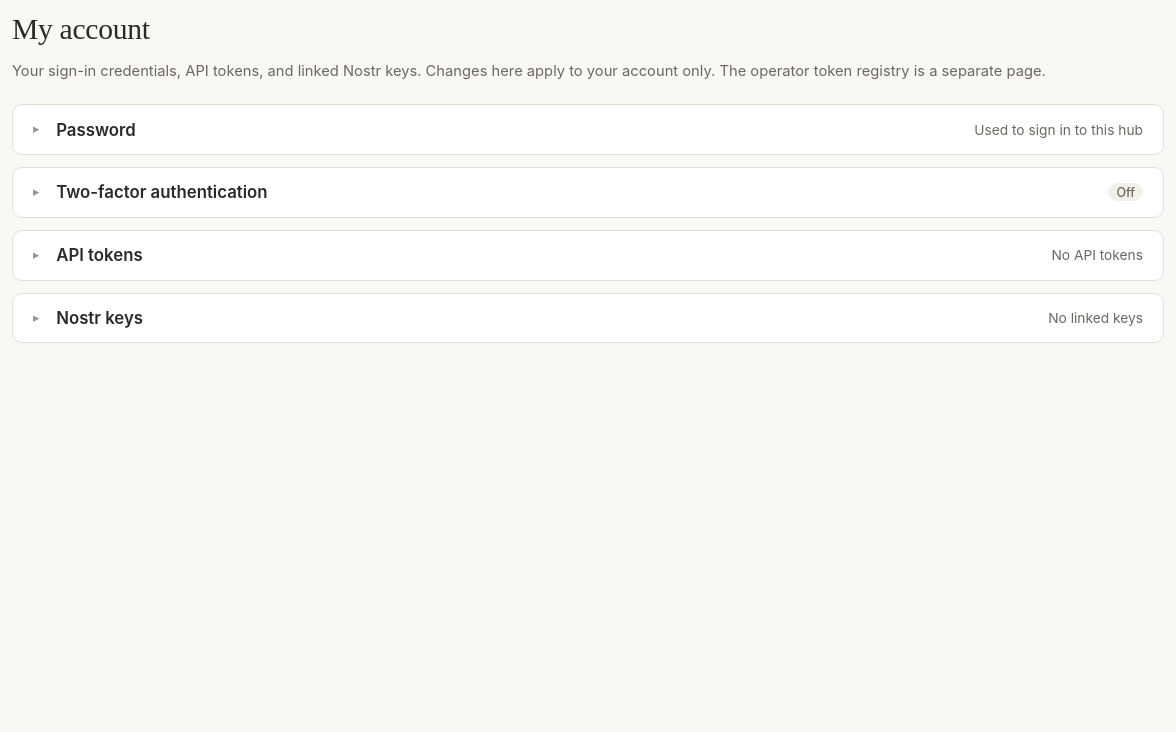
Account — password change › blocks a too-short new password client-side (no POST)
Click the button with test id "account-password-toggle" at (96, 130), box x1=13 y1=105 x2=1163 y2=154
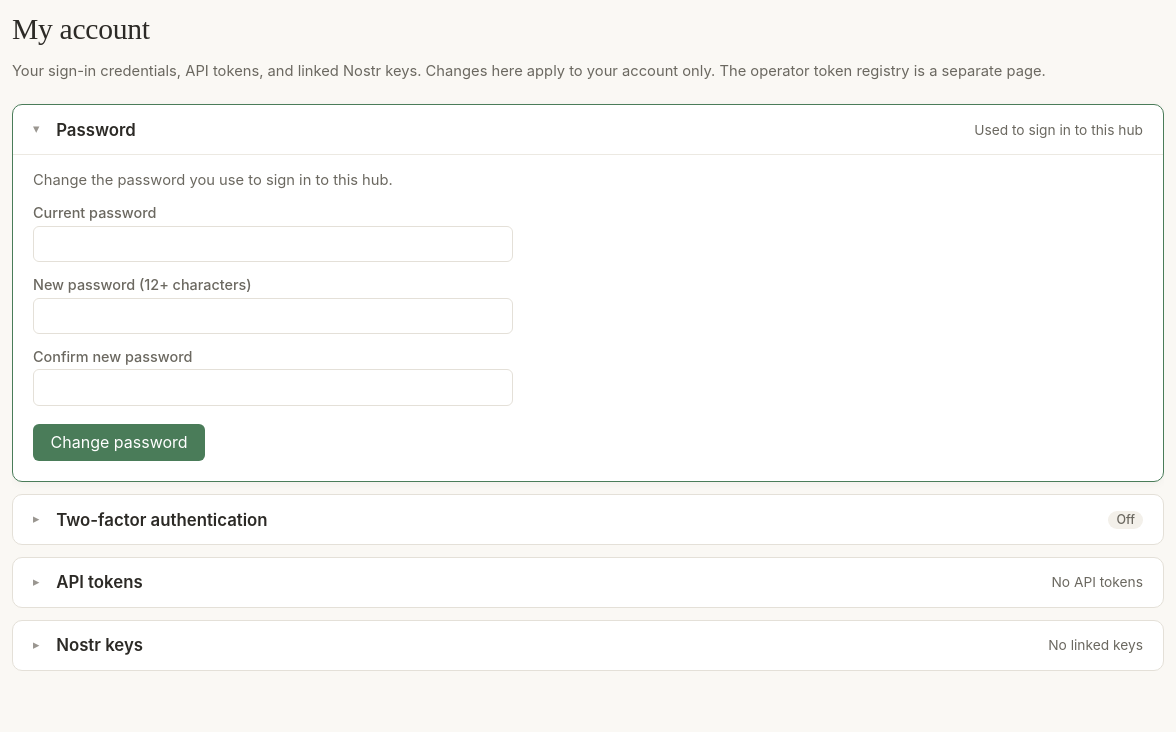
Type "old-password-123" into the password field with test id "account-current-password" at (273, 244), box x1=33 y1=226 x2=513 y2=262
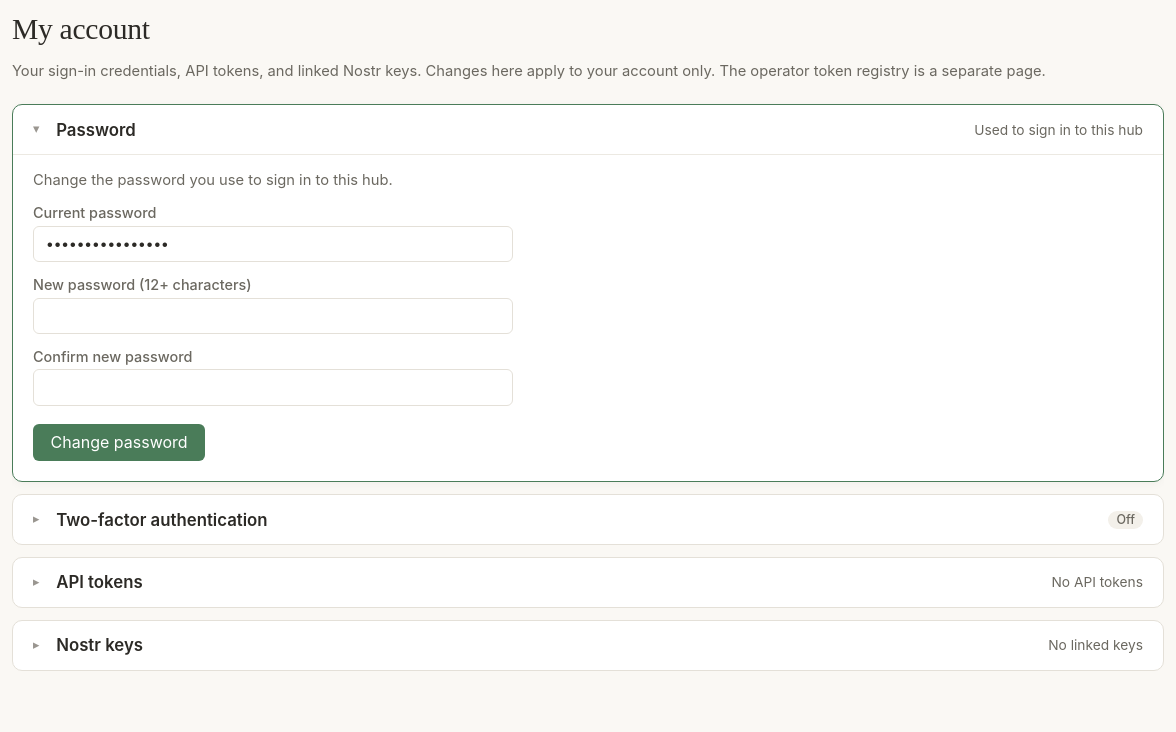
Type "short" into the password field with test id "account-new-password" at (273, 316), box x1=33 y1=298 x2=513 y2=334
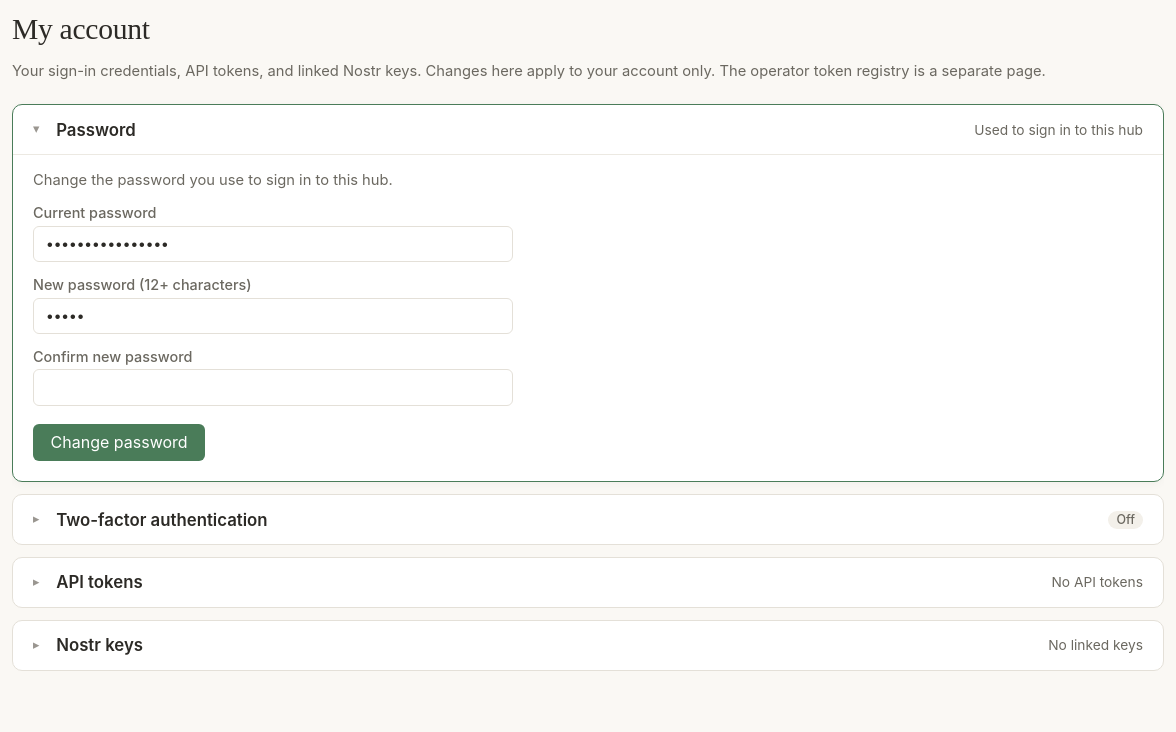
Type "short" into the password field with test id "account-confirm-password" at (273, 388), box x1=33 y1=370 x2=513 y2=406
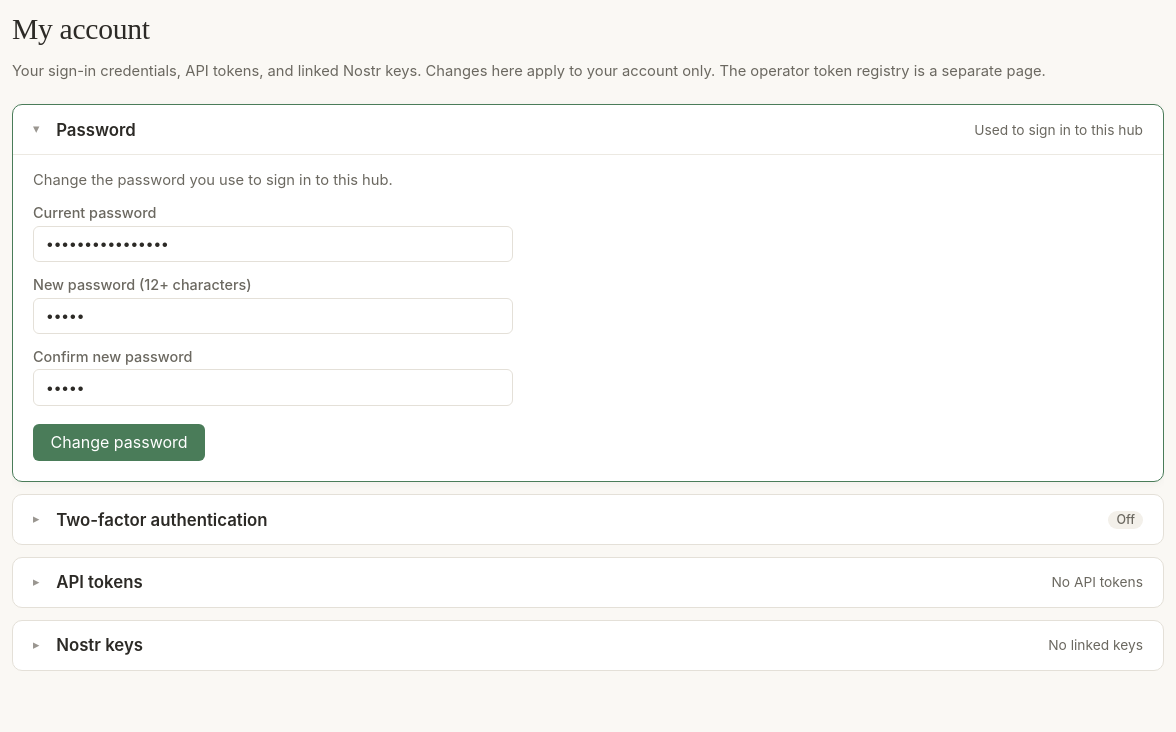
Click the button with test id "account-change-password" at (119, 442), box x1=33 y1=424 x2=205 y2=461
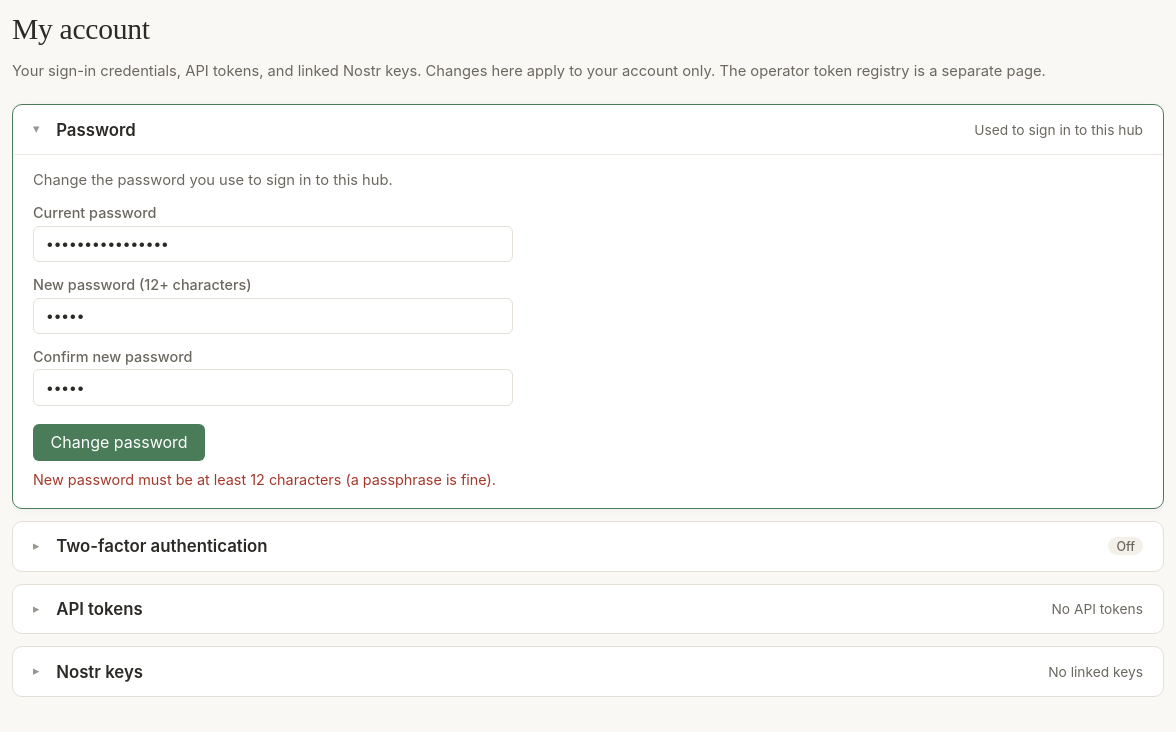
Check: the text with test id "account-password-error" shows "at least 12", box x1=33 y1=471 x2=496 y2=488
